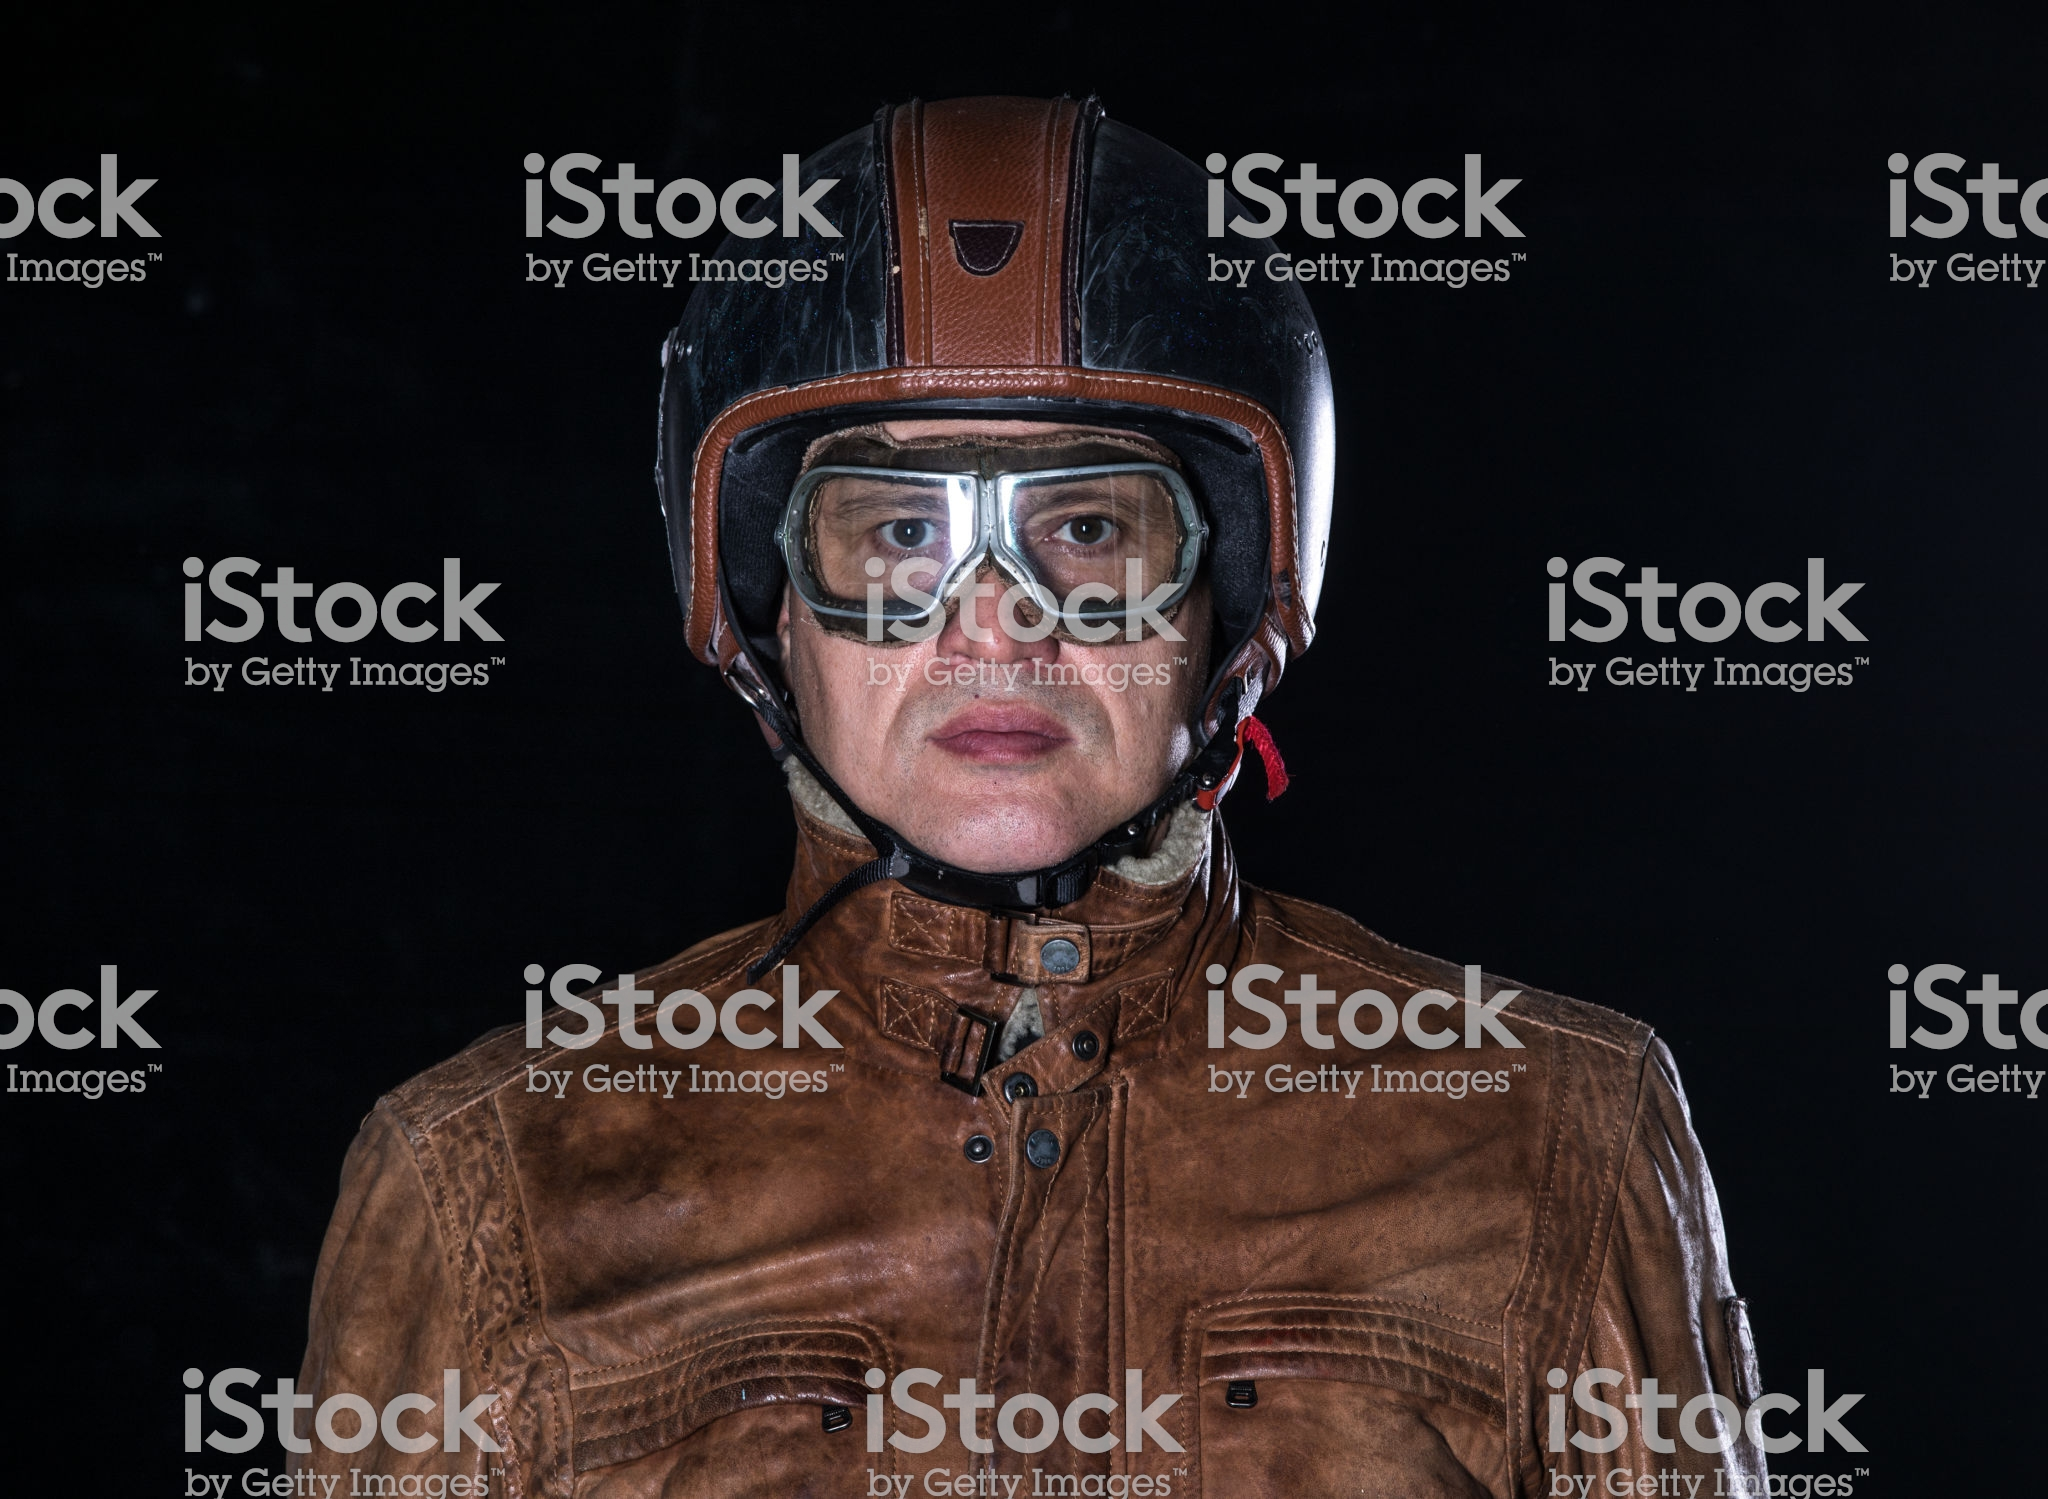helmet: (607, 87, 1402, 707)
